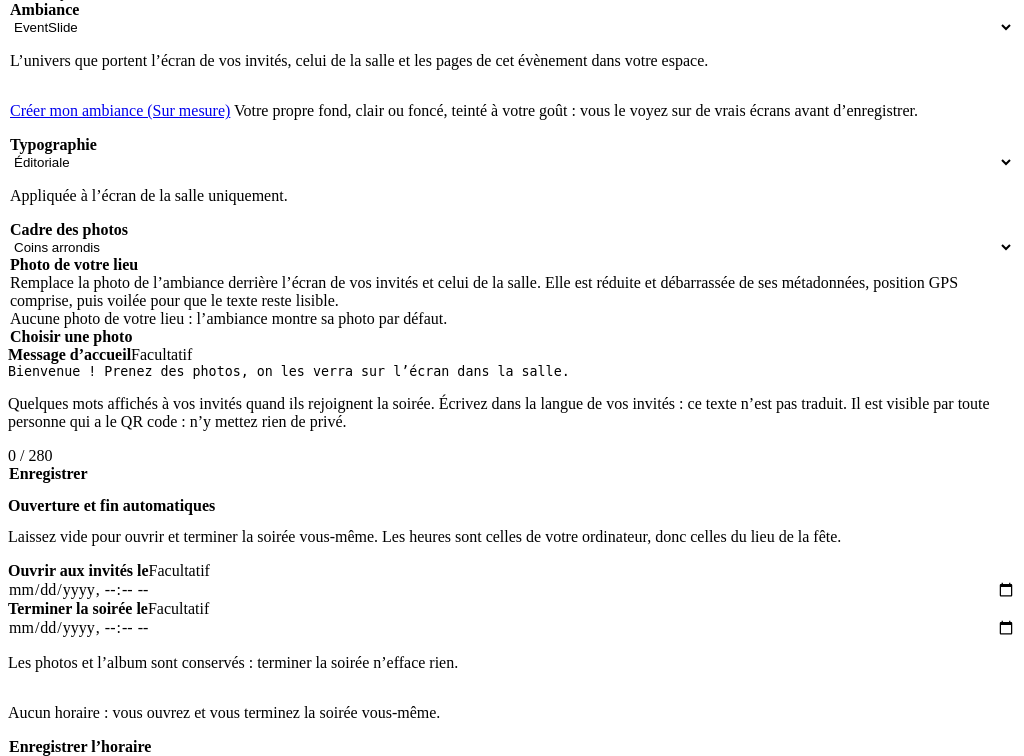
EventSettingsPage › surfaces the server’s refusal of a settings change
The width and height of the screenshot is (1024, 756).
(page scrolled)
Click the button "Enregistrer": (48, 474) [8,465,88,483]
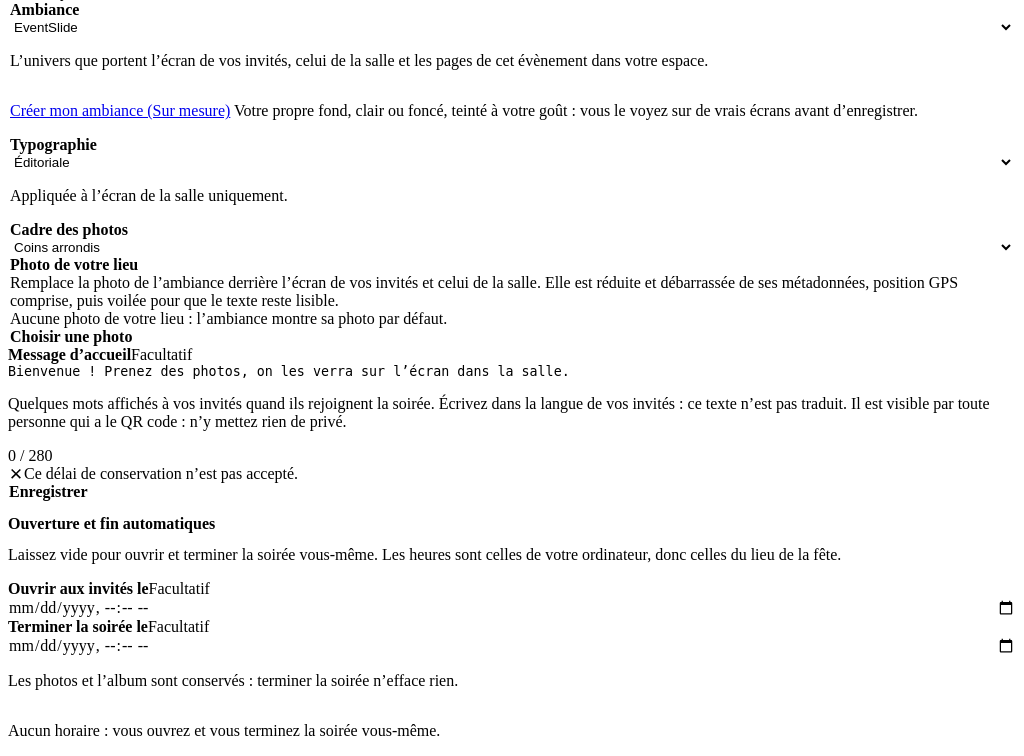
expect the message reads "Ce délai de conservation n’est pas accepté.": met, box [24,465,298,482]
